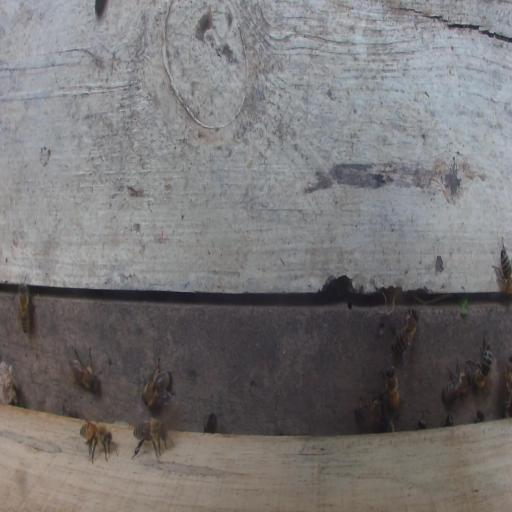nonpollenbee: (79, 406, 120, 463), (129, 415, 177, 462), (388, 307, 420, 367), (67, 342, 103, 392), (465, 331, 494, 391), (141, 355, 173, 408), (441, 354, 472, 402), (14, 270, 37, 334), (378, 364, 402, 425), (490, 233, 511, 302), (355, 394, 386, 425), (501, 353, 511, 410)
